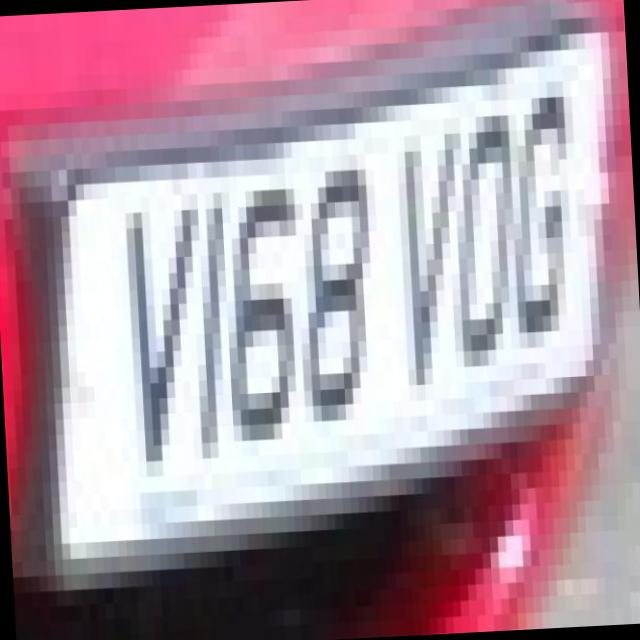LicensePlate: (23, 64, 634, 562)
